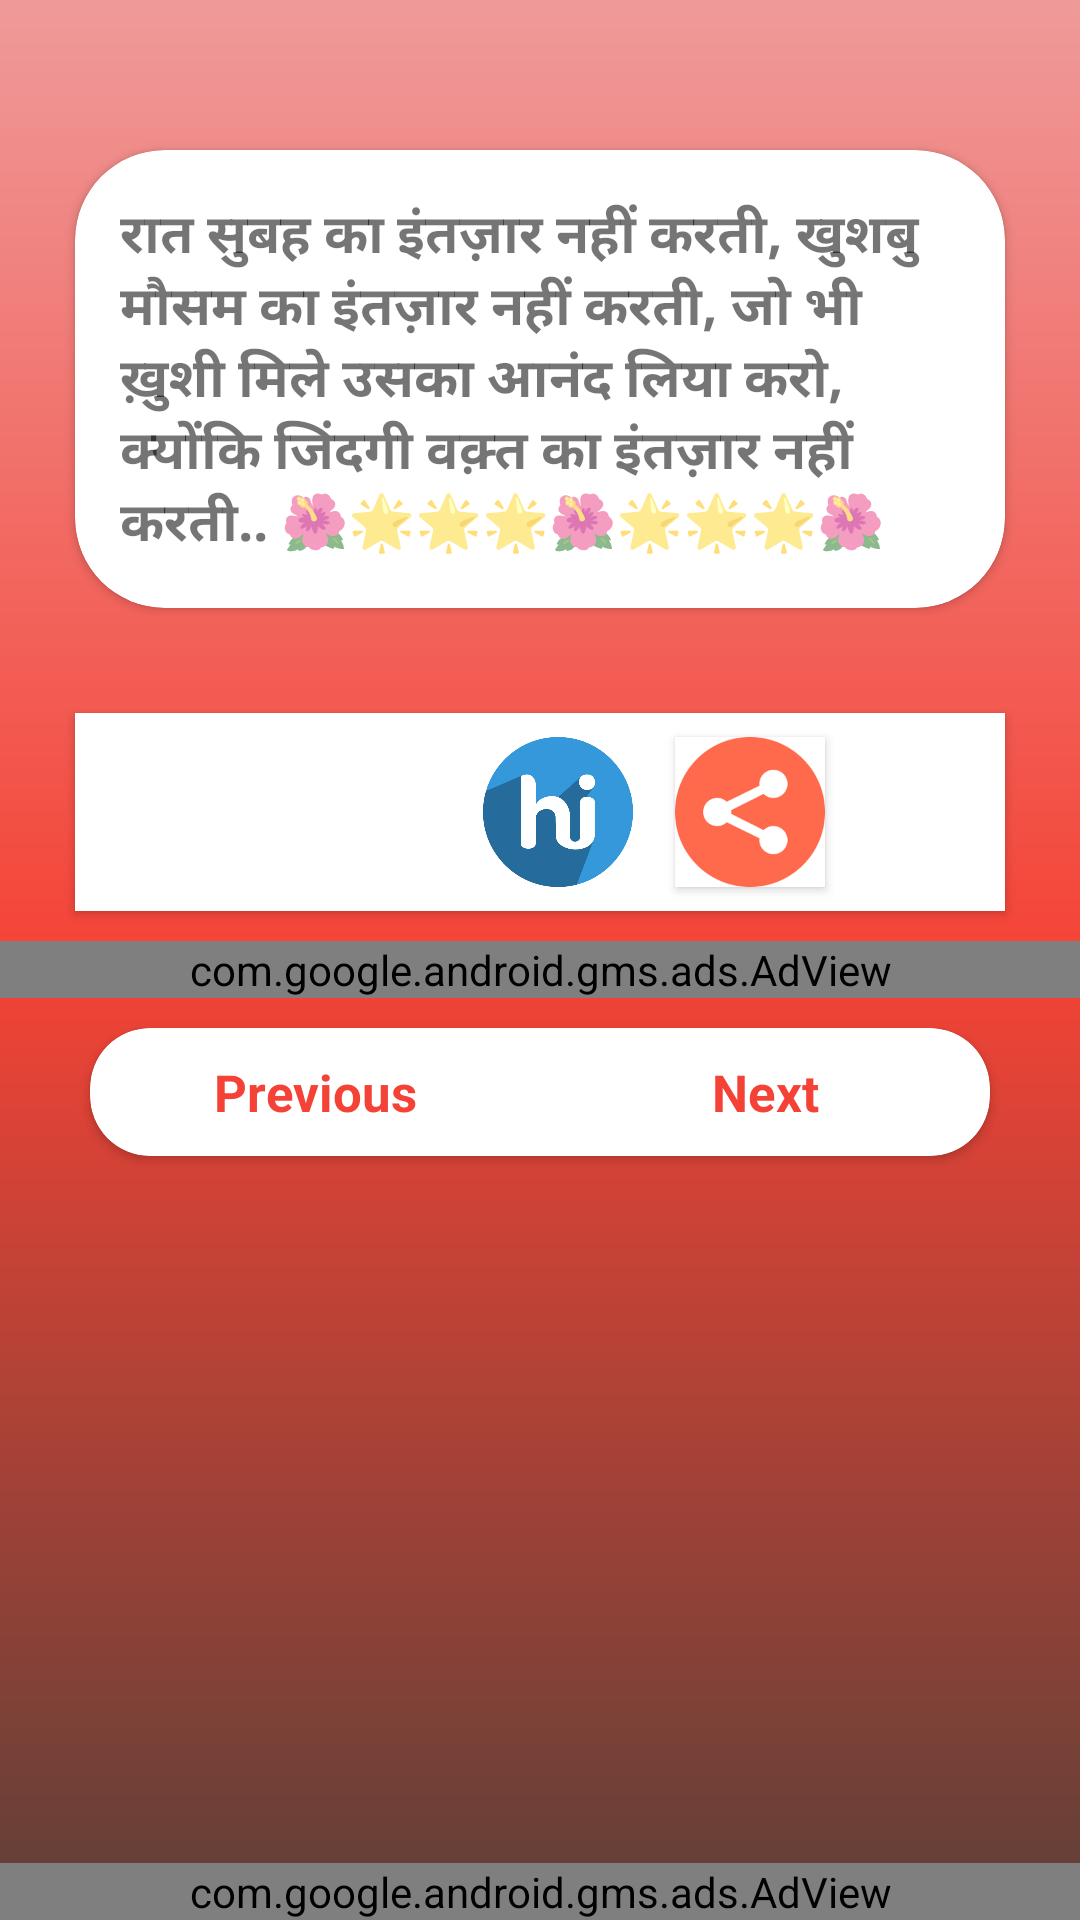

Where icons sit on this 1080x1920 app screen, as Rect(x1, y1, x2, y2):
share: Rect(675, 737, 825, 887)
